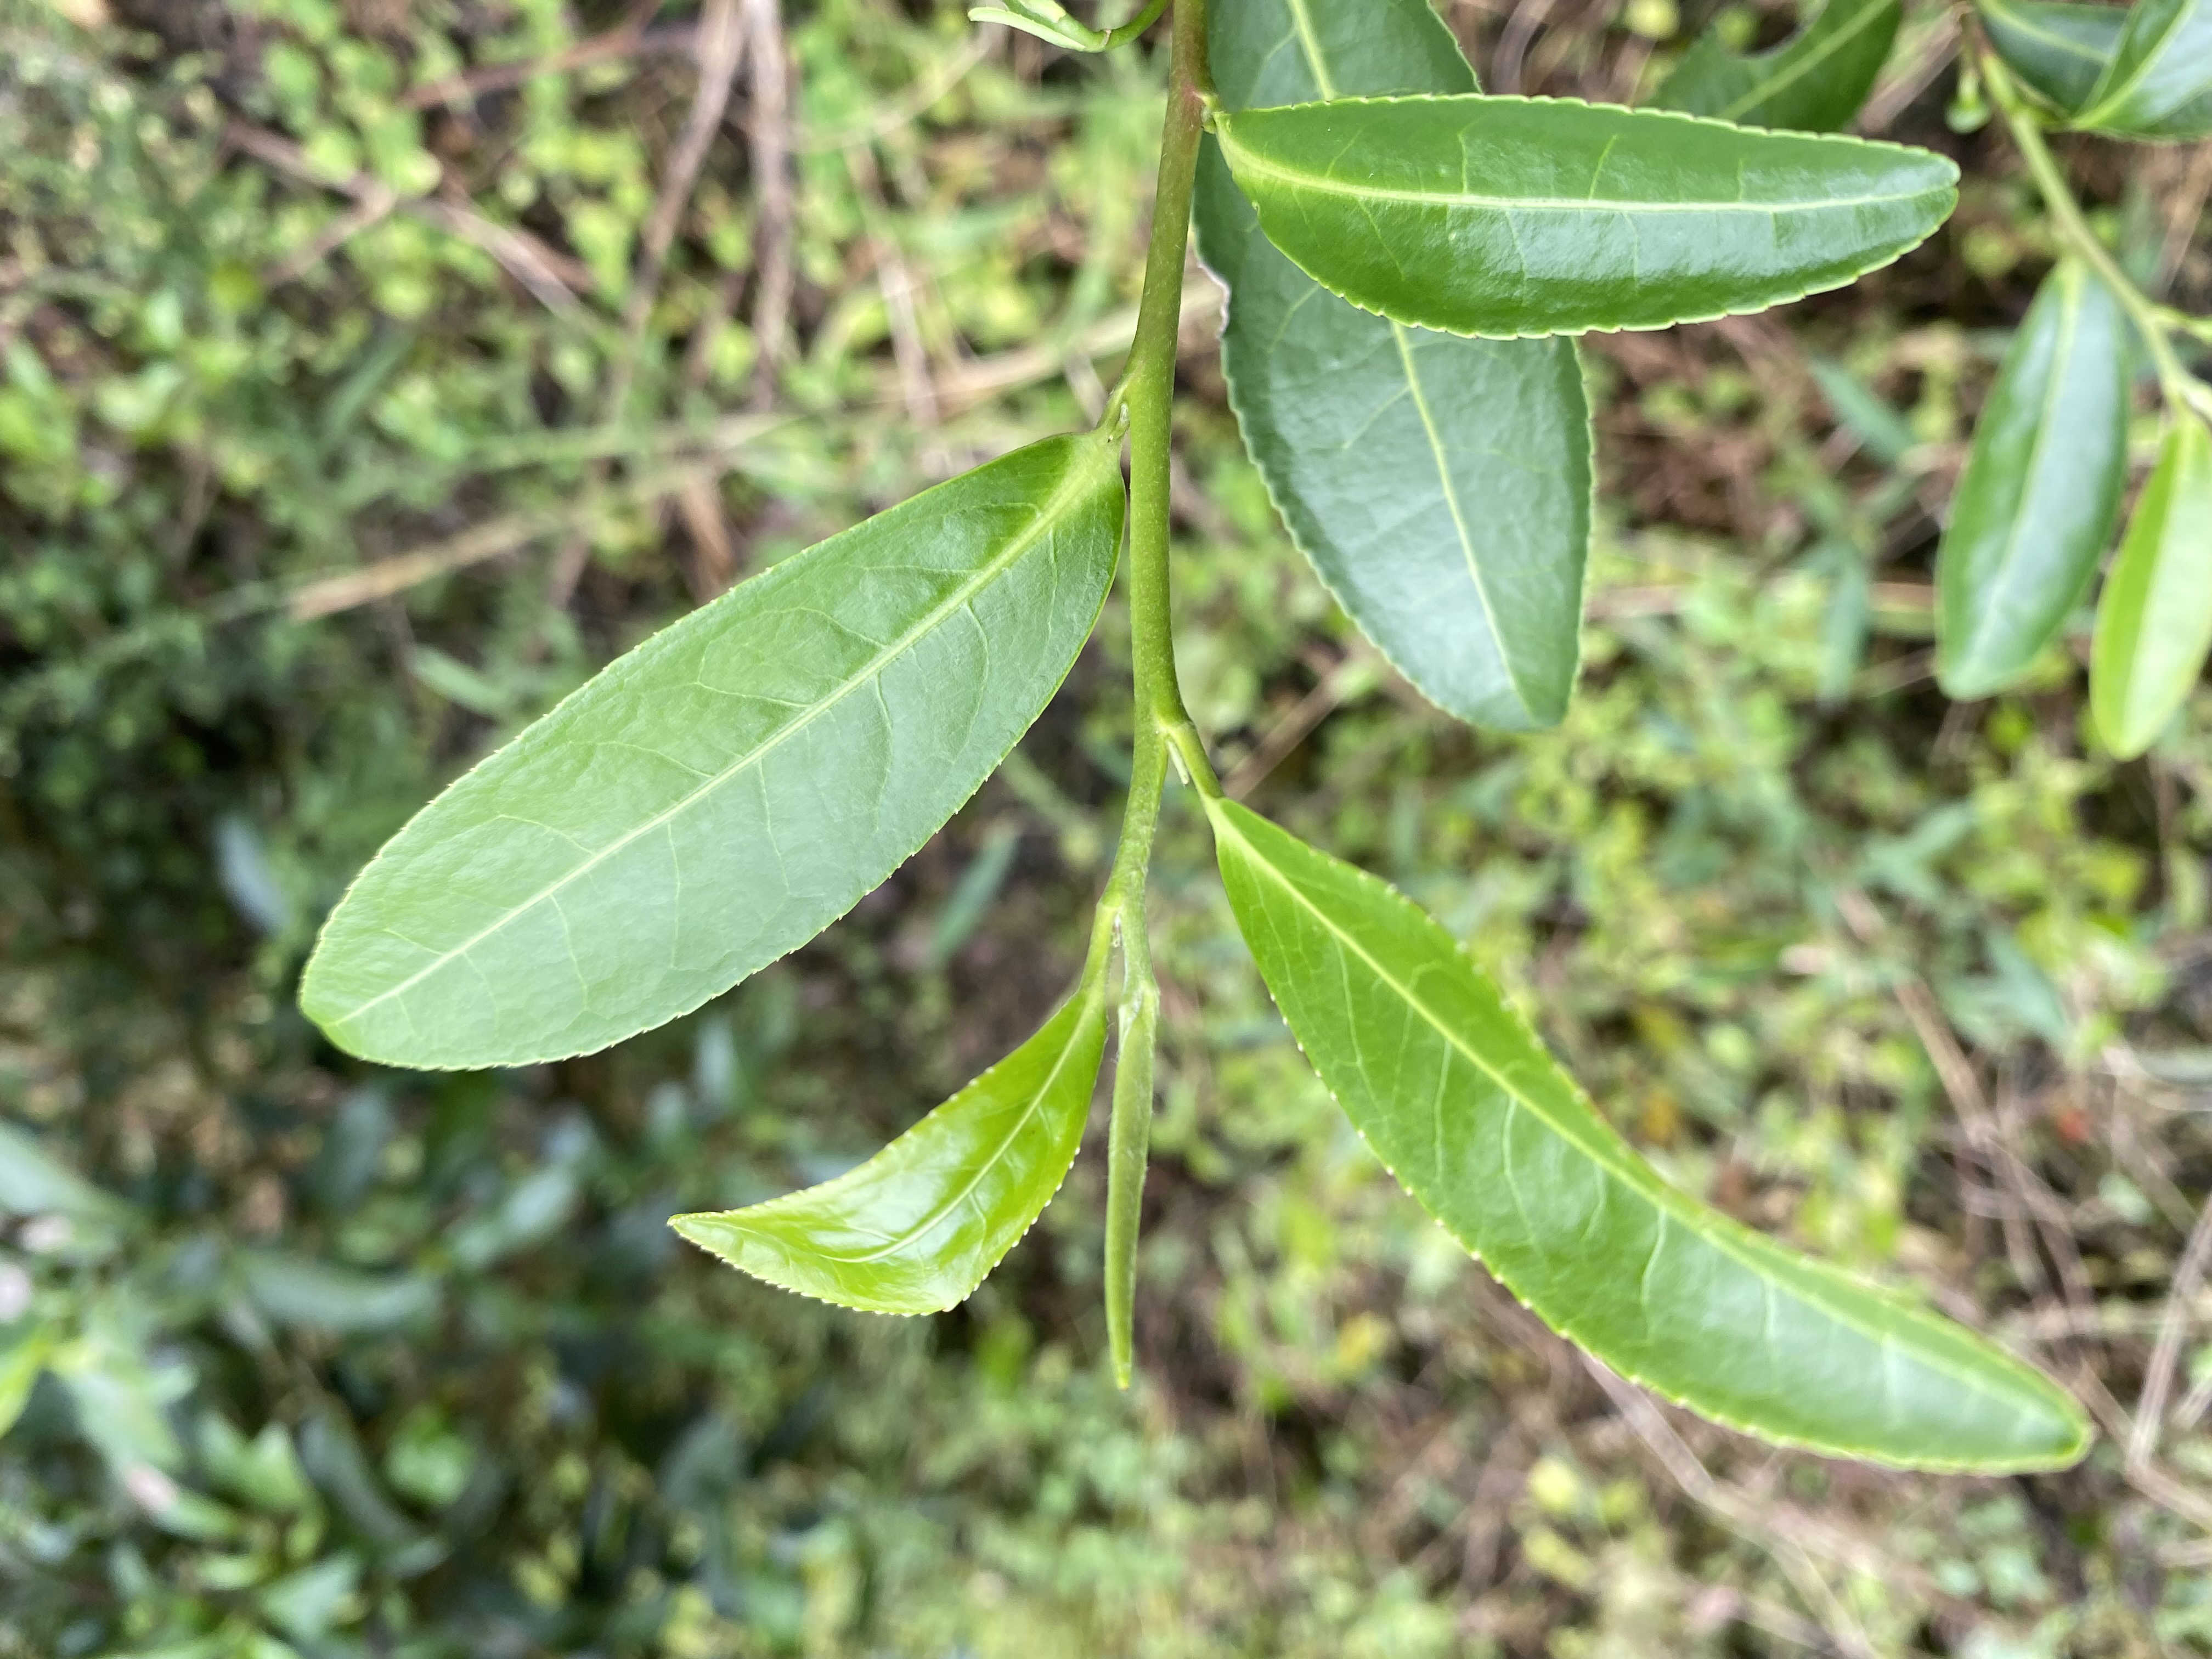healthy: (1212, 798, 2092, 1473), (296, 432, 1127, 1072), (1193, 2, 1597, 735), (1228, 92, 1959, 345), (669, 993, 1113, 1321)
